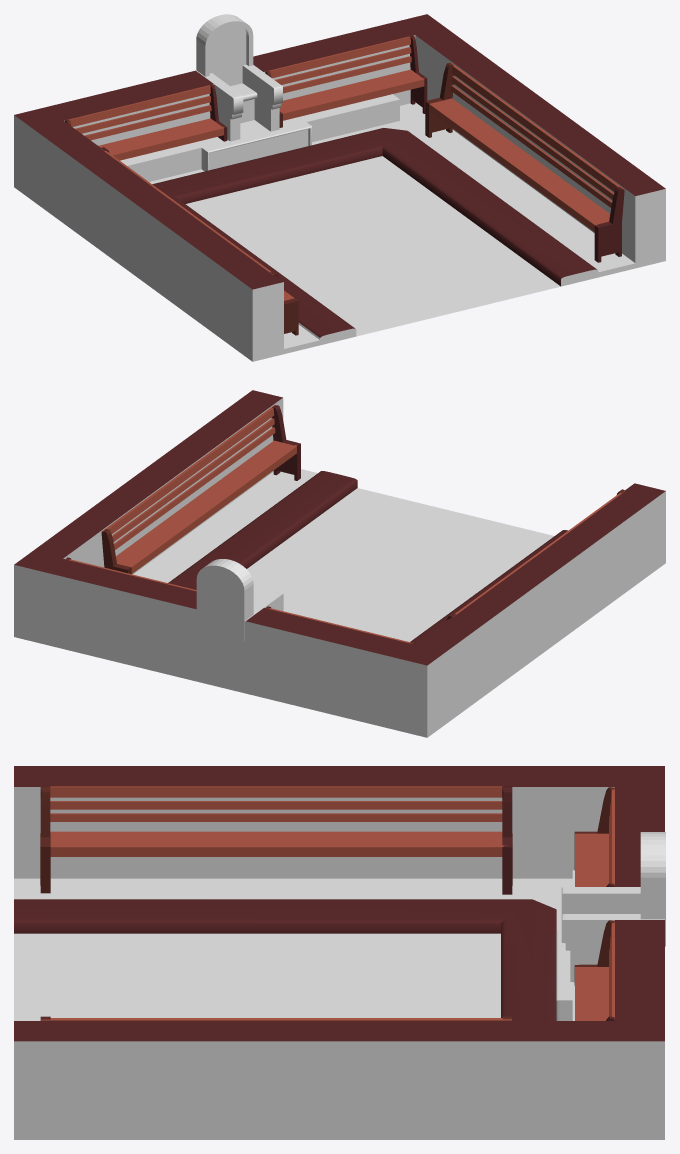
File: XUNGTOI.fbx
The picture shows the model from 3 angles, top to bottom: view 1: azimuth 30°, elevation 25°; view 2: azimuth 150°, elevation 25°; view 3: azimuth 270°, elevation 25°; orthographic projection. The views are drawn at different scales.
Parts seen in each view (by area): view 1: Cube, Cube.023, Cylinder, Cube.009, Cube.004, Cube.024, Cube.021, Cube.020, Cube.005, Cube.008, Cube.025, Cube.016 (+6 smaller); view 2: Cube, Cube.023, Cylinder, Cube.024, Cube.020, Cube.025, Cube.021, Cube.022; view 3: Cube, Cube.017, Cube.018, Cube.007, Cube.019, Cylinder, Cube.004, Cube.009, Cube.024, Cube.014, Cube.015.
Part boxes in pixels (<box>): Cube: <box>14,14,665,361</box>; Cube.023: <box>429,98,610,231</box>; Cylinder: <box>196,14,253,86</box>; Cube.009: <box>279,69,424,120</box>; Cube.004: <box>98,118,223,160</box>; Cube.024: <box>451,63,623,191</box>; Cube.021: <box>594,187,624,262</box>; Cube.020: <box>451,76,613,199</box>; Cube.005: <box>66,85,210,126</box>; Cube.008: <box>265,36,410,78</box>; Cube.025: <box>450,85,612,207</box>; Cube.016: <box>274,47,411,84</box>; Cube: <box>14,390,665,737</box>; Cube.023: <box>116,440,296,573</box>; Cylinder: <box>196,559,253,641</box>; Cube.024: <box>102,405,274,533</box>; Cube.020: <box>112,418,274,541</box>; Cube.025: <box>114,427,275,549</box>; Cube.021: <box>271,405,300,480</box>; Cube.022: <box>101,529,131,573</box>; Cube: <box>14,766,664,1139</box>; Cube.017: <box>50,831,506,856</box>; Cube.018: <box>50,786,502,797</box>; Cube.007: <box>50,801,502,809</box>; Cube.019: <box>50,813,502,821</box>; Cylinder: <box>640,832,665,946</box>; Cube.004: <box>575,833,608,886</box>; Cube.009: <box>575,967,608,1020</box>; Cube.024: <box>41,1018,511,1020</box>; Cube.014: <box>502,786,512,894</box>; Cube.015: <box>40,786,50,893</box>.
Bounding box in the file's own units: 200 × 56.11 × 200.
